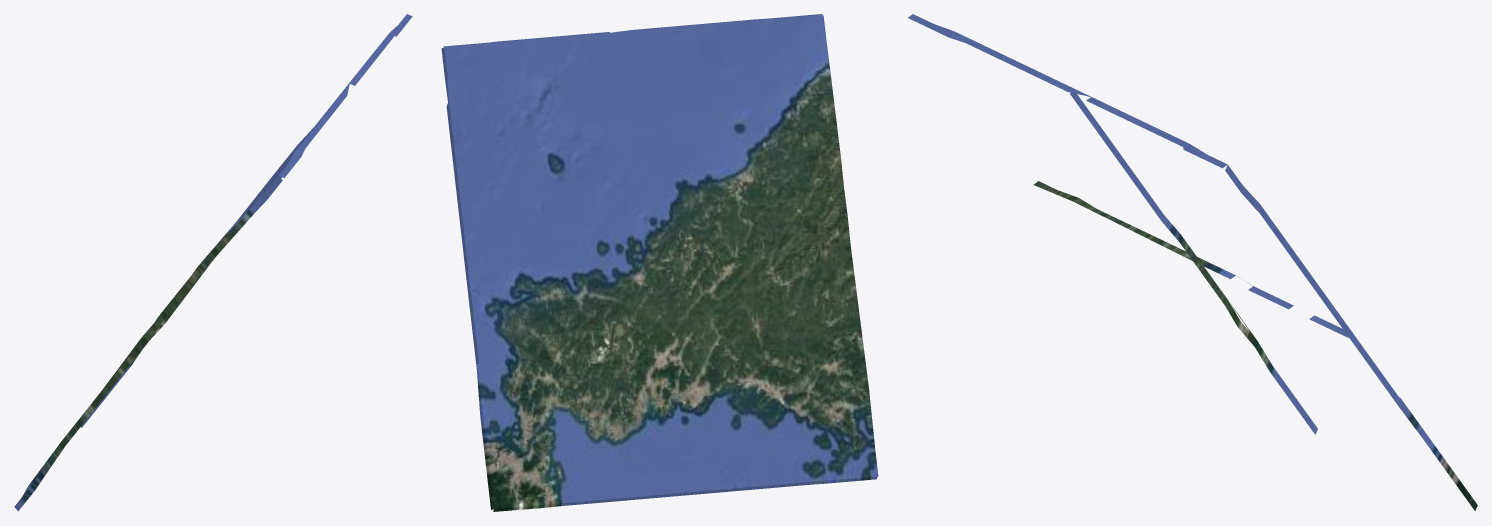
The picture shows the model from 3 angles, left to right: view 1: azimuth 30°, elevation 25°; view 2: azimuth 150°, elevation 25°; view 3: azimuth 270°, elevation 25°; orthographic projection. The views are drawn at different scales.
Bounding box in the file's own units: 157180 × 131263 × 154556.
1 material, 1 textured.
